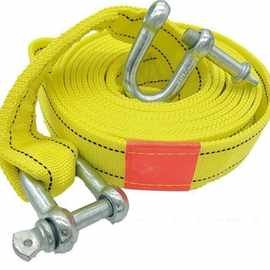9/可回收垃圾/绳子: (1, 1, 270, 262)
